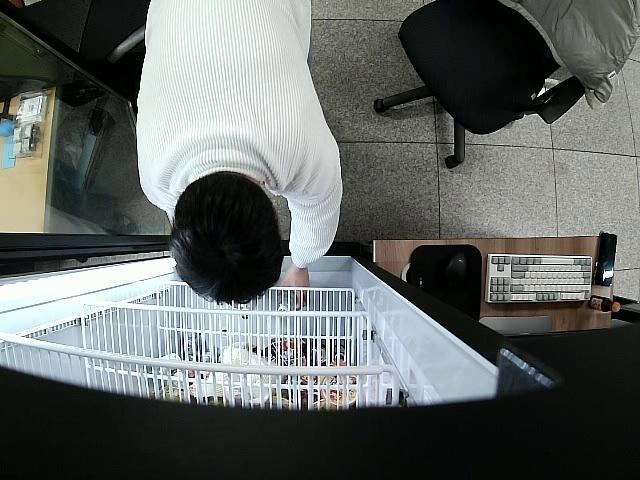18_trevi: (278, 288, 300, 318)
